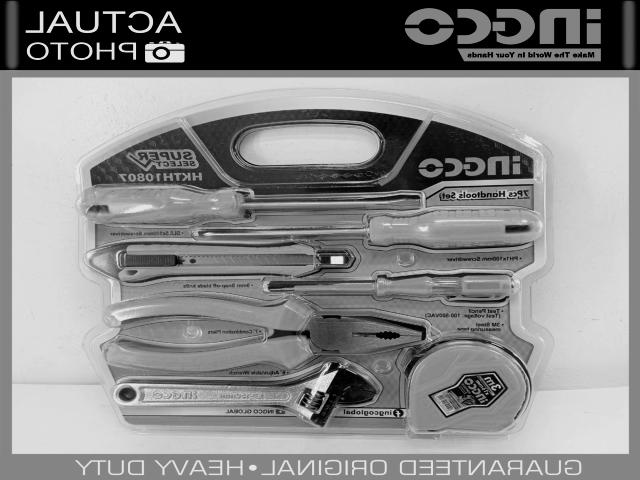Adjustable spanner: (111, 361, 381, 428)
Pliers: (103, 296, 424, 370)
Screwdriver: (198, 210, 542, 248), (79, 190, 421, 225), (269, 275, 513, 302)
Tape measure: (399, 332, 531, 437)
Utility knife: (87, 241, 354, 280)
